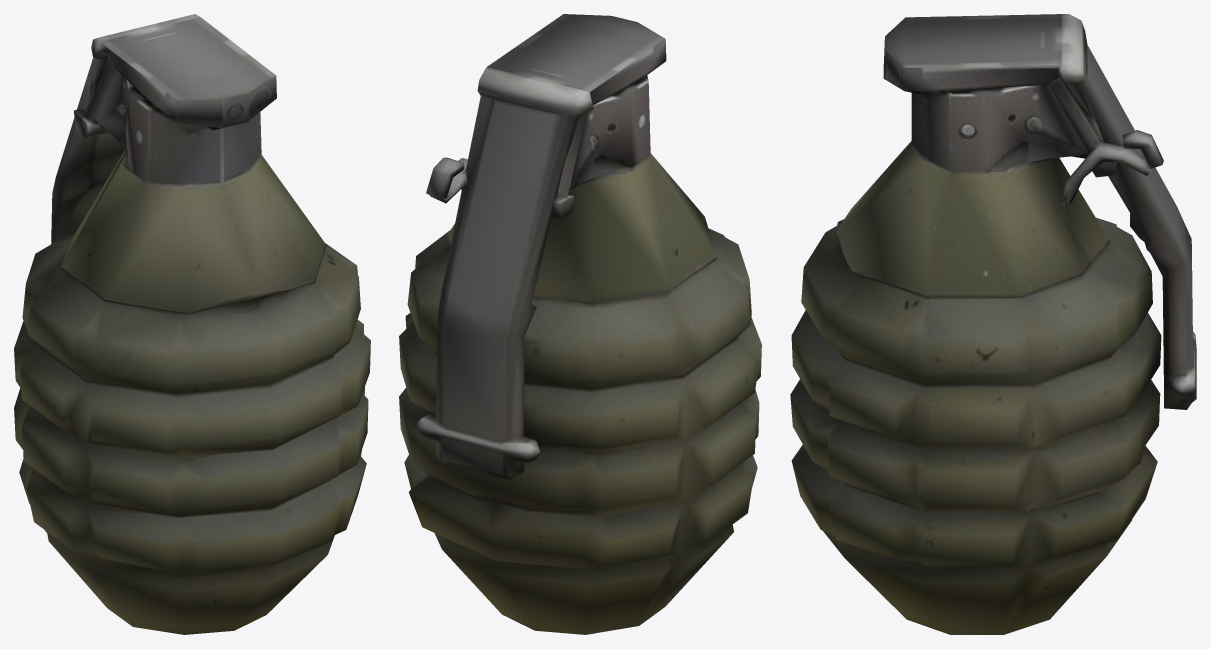
Rendered from tripo-grenade.glb.
3 views of the same model, side by side, from view 1: azimuth 30°, elevation 25°; view 2: azimuth 150°, elevation 25°; view 3: azimuth 270°, elevation 25° (orthographic). The views are drawn at different scales.
Parts seen in each view (by area): view 1: tripo_node_d6fc2d21-13d0-435d-a67f-ca6f07f9e410; view 2: tripo_node_d6fc2d21-13d0-435d-a67f-ca6f07f9e410; view 3: tripo_node_d6fc2d21-13d0-435d-a67f-ca6f07f9e410.
Boxes of the visible parts, x1,y1,x2,y2 form: tripo_node_d6fc2d21-13d0-435d-a67f-ca6f07f9e410: (14, 14, 370, 634); tripo_node_d6fc2d21-13d0-435d-a67f-ca6f07f9e410: (399, 14, 761, 634); tripo_node_d6fc2d21-13d0-435d-a67f-ca6f07f9e410: (790, 14, 1196, 634).
Size of the model in its own units: 0.5851 by 0.998 by 0.6556.
Materials: 1 (1 with a texture image).
